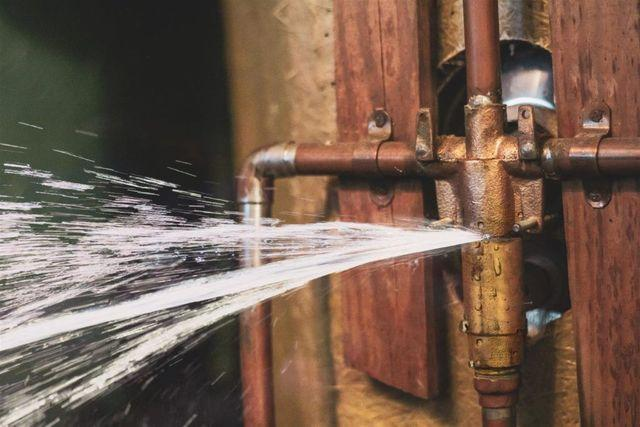pipe burst: (0, 161, 488, 427)
